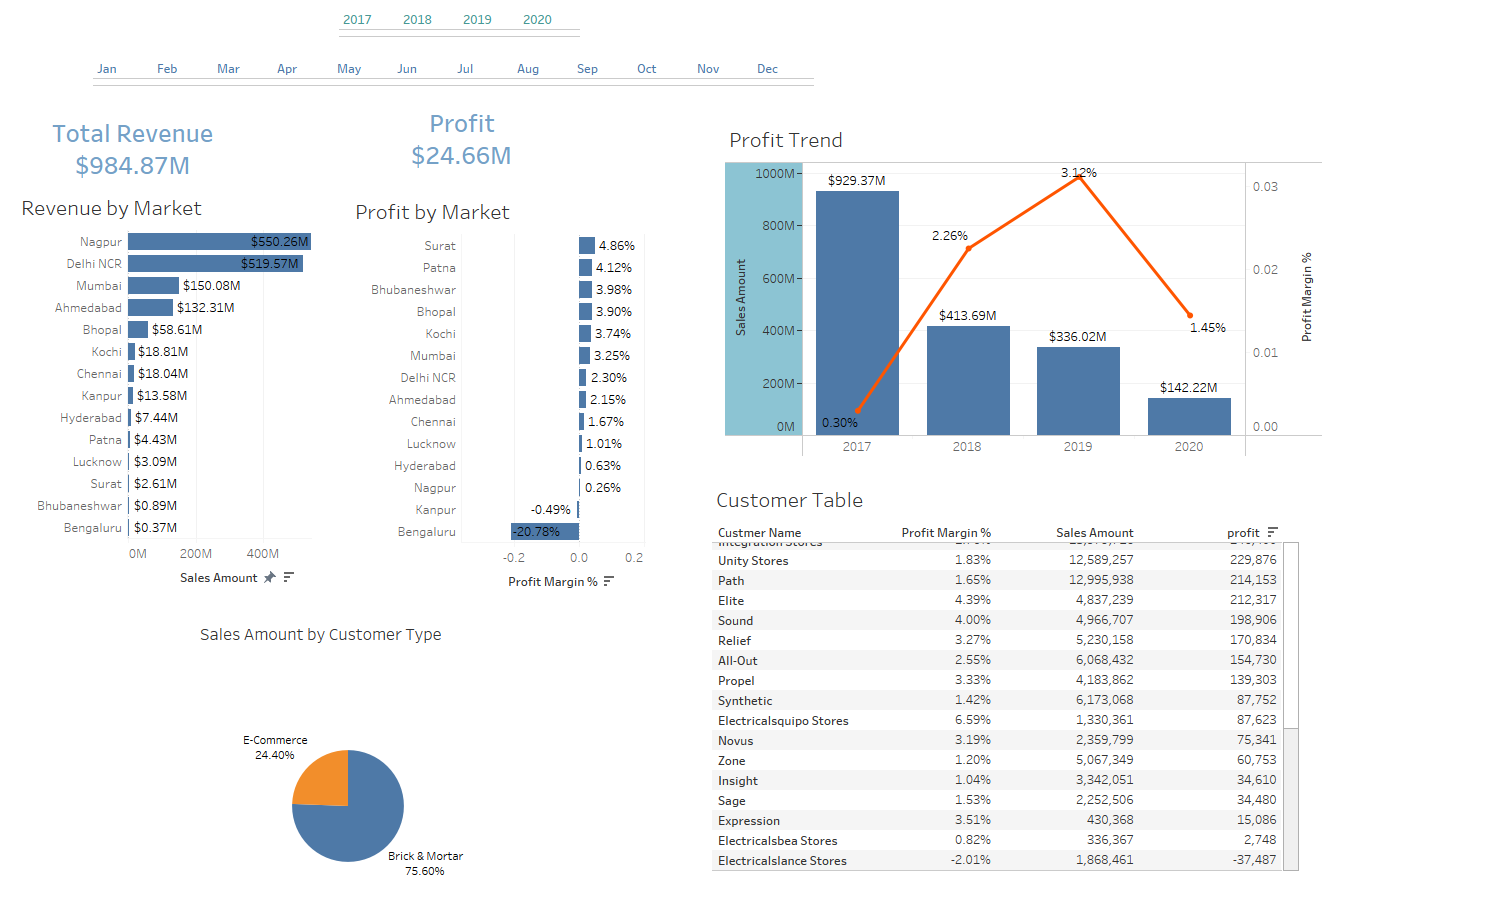

The page's visual inventory and layout, read from the dashboard file:
{"tool":"tableau","page":{"name":"Dashboard 2","canvas":[1500,900],"ordinal":1},"visuals":[{"type":"worksheet","title":"Year Filter","mark":"Automatic","cols":["cy_date"],"box":[339,9,245,77]},{"type":"worksheet","title":"Months Filter","mark":"Automatic","cols":["cy_date"],"box":[93,58,743,99]},{"type":"worksheet","title":"profit","mark":"Automatic","box":[402,106,162,93]},{"type":"worksheet","title":"Total Revenue","mark":"Automatic","box":[43,116,187,94]},{"type":"worksheet","title":"Profit Trend","mark":"Line","rows":["Calculation_3799630758369112064","Calculation_3799630758392819714"],"cols":["cy_date"],"box":[725,119,598,338]},{"type":"worksheet","title":"Revenue by Market","mark":"Automatic","rows":["markets_name"],"cols":["Calculation_3799630758369112064"],"box":[17,187,294,431]},{"type":"worksheet","title":"Profit by Market","mark":"Automatic","rows":["markets_name"],"cols":["Calculation_3799630758392819714"],"box":[351,191,294,426]},{"type":"worksheet","title":"Customer Table","mark":"Automatic","rows":["custmer_name"],"box":[712,479,588,392]}]}

Visuals, with their boxes in screenshot pixels (x1, y1, x2, y2), scaled from the page's 1500x900 canvas onto the 1500x900 screenshot:
"Year Filter" worksheet: 339/9/584/86
"Months Filter" worksheet: 93/58/836/157
"profit" worksheet: 402/106/564/199
"Total Revenue" worksheet: 43/116/230/210
"Profit Trend" worksheet (Line marks): 725/119/1323/457
"Revenue by Market" worksheet: 17/187/311/618
"Profit by Market" worksheet: 351/191/645/617
"Customer Table" worksheet: 712/479/1300/871
